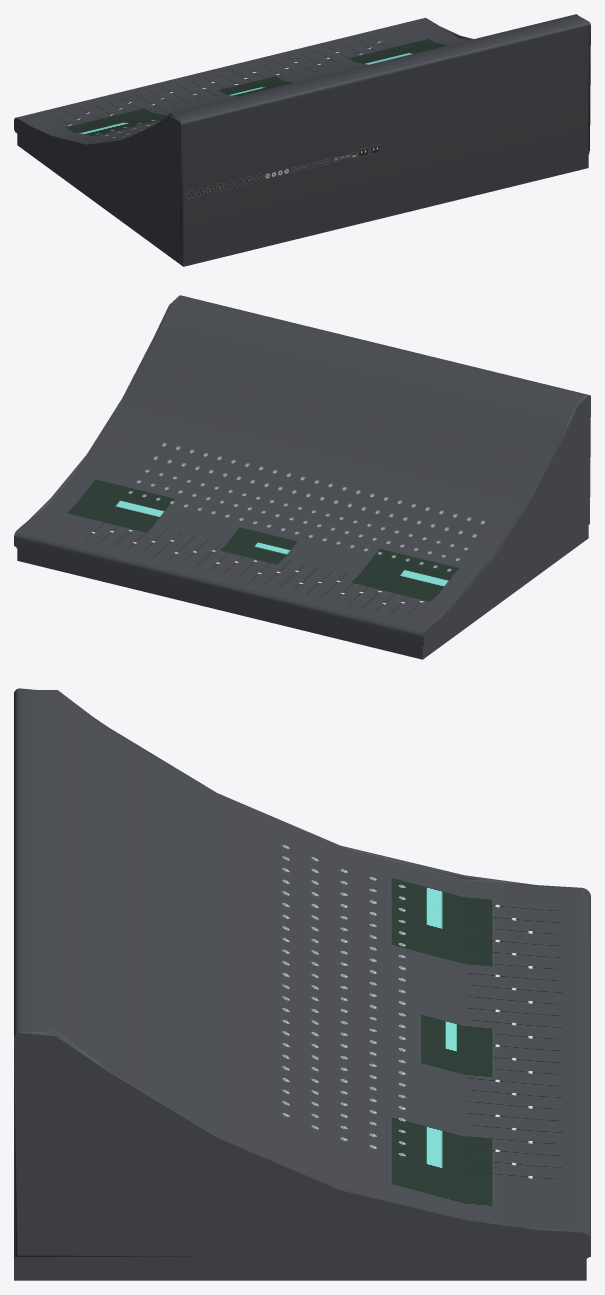
The model's file is digico-sd12.glb.
The picture shows the model from 3 angles, top to bottom: view 1: azimuth 30°, elevation 25°; view 2: azimuth 150°, elevation 25°; view 3: azimuth 270°, elevation 25°; orthographic projection. The views are drawn at different scales.
Visible parts, largest first — view 1: digico-sd12-body; view 2: digico-sd12-body; view 3: digico-sd12-body.
Boxes of the visible parts, left/top/right/bottom form: digico-sd12-body: left=14, top=14, right=590, bottom=266; digico-sd12-body: left=14, top=295, right=590, bottom=659; digico-sd12-body: left=14, top=688, right=590, bottom=1280.
Bounding box in the file's own units: 1.12 × 0.389 × 0.795.
Materials: 1 (1 with a texture image).
